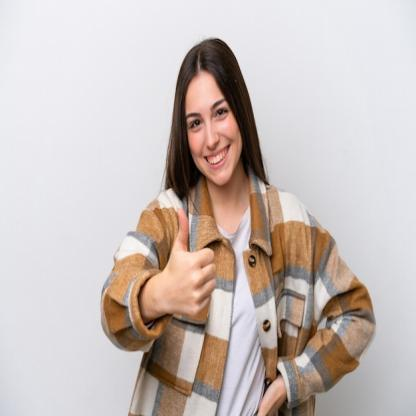thumb_up: (159, 204, 218, 320)
